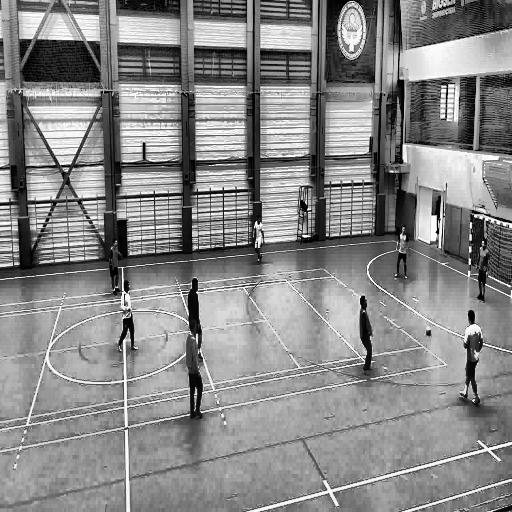ball: (424, 322, 433, 340)
player: (459, 310, 483, 407), (186, 320, 205, 423), (187, 277, 205, 362), (117, 279, 137, 355), (359, 296, 375, 380), (474, 238, 490, 304), (394, 224, 411, 281), (108, 237, 122, 296), (252, 213, 267, 266)
